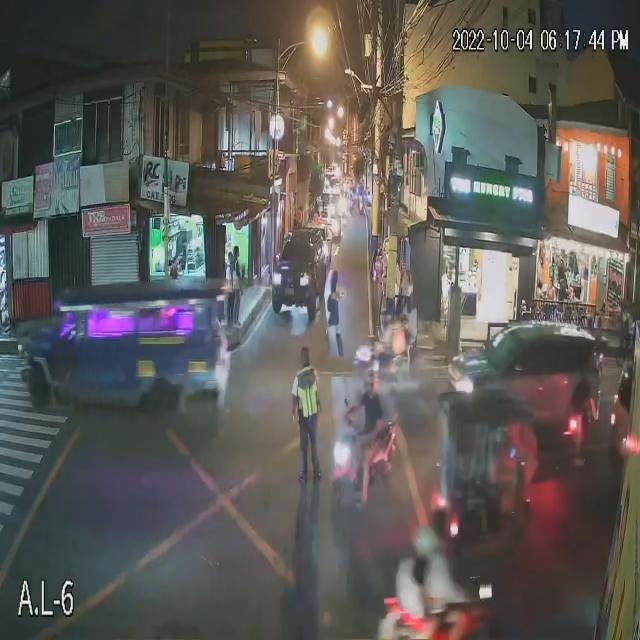motorcycle: (380, 596, 516, 640), (329, 436, 418, 495)
rider: (399, 566, 423, 624), (362, 396, 375, 499), (430, 556, 448, 607)
